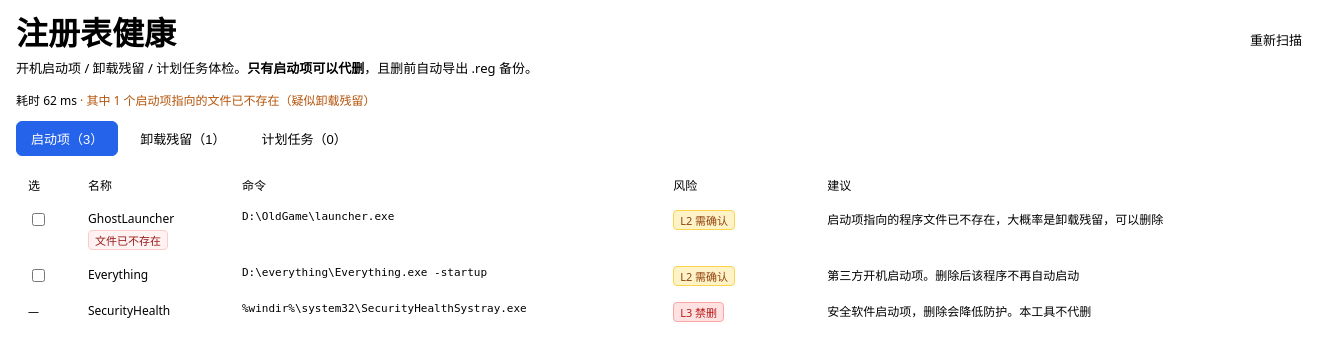
Test: 注册表健康中心 › 计划任务目录读不到时提示「需要管理员权限」，而不是「没有计划任务」
Check: the button "启动项（3）" is shown, box [16, 121, 118, 156]
Click the button "计划任务（0）" at (304, 138), box [248, 121, 361, 156]
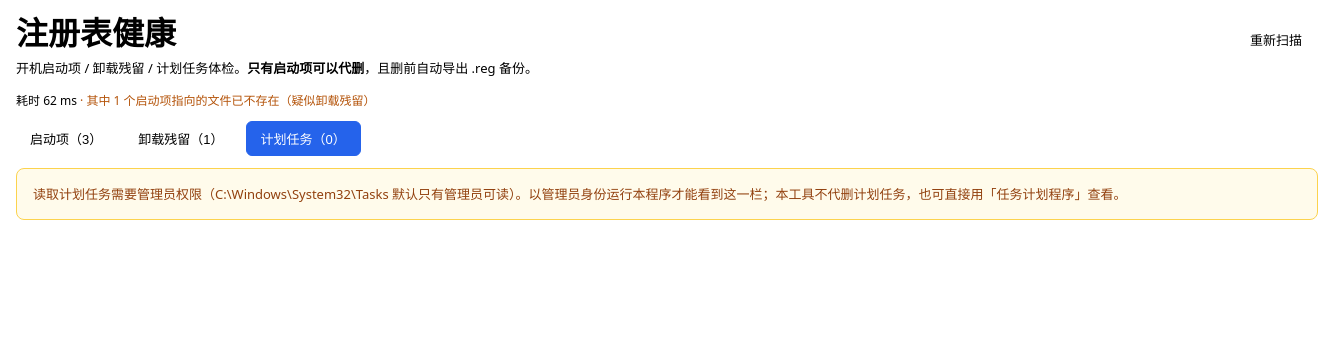
Check: the text "需要管理员权限" is shown, box [33, 185, 1126, 203]
